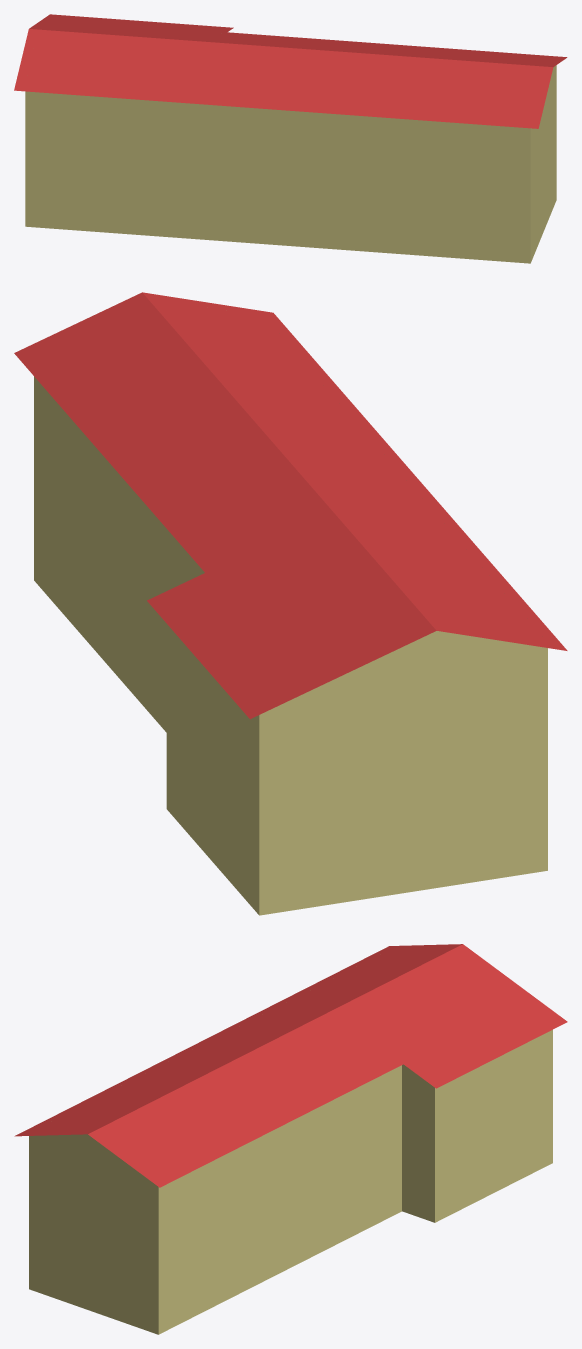
3 renders of one model, top to bottom at view 1: azimuth 30°, elevation 25°; view 2: azimuth 150°, elevation 25°; view 3: azimuth 270°, elevation 25°, orthographic. The views are drawn at different scales.
Size of the model in its own units: 26.64 by 25.81 by 9.33.
